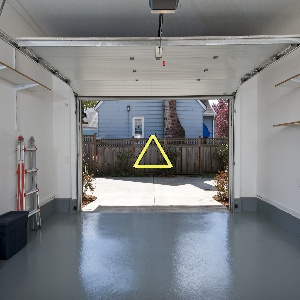triangle: (128, 132, 179, 173)
